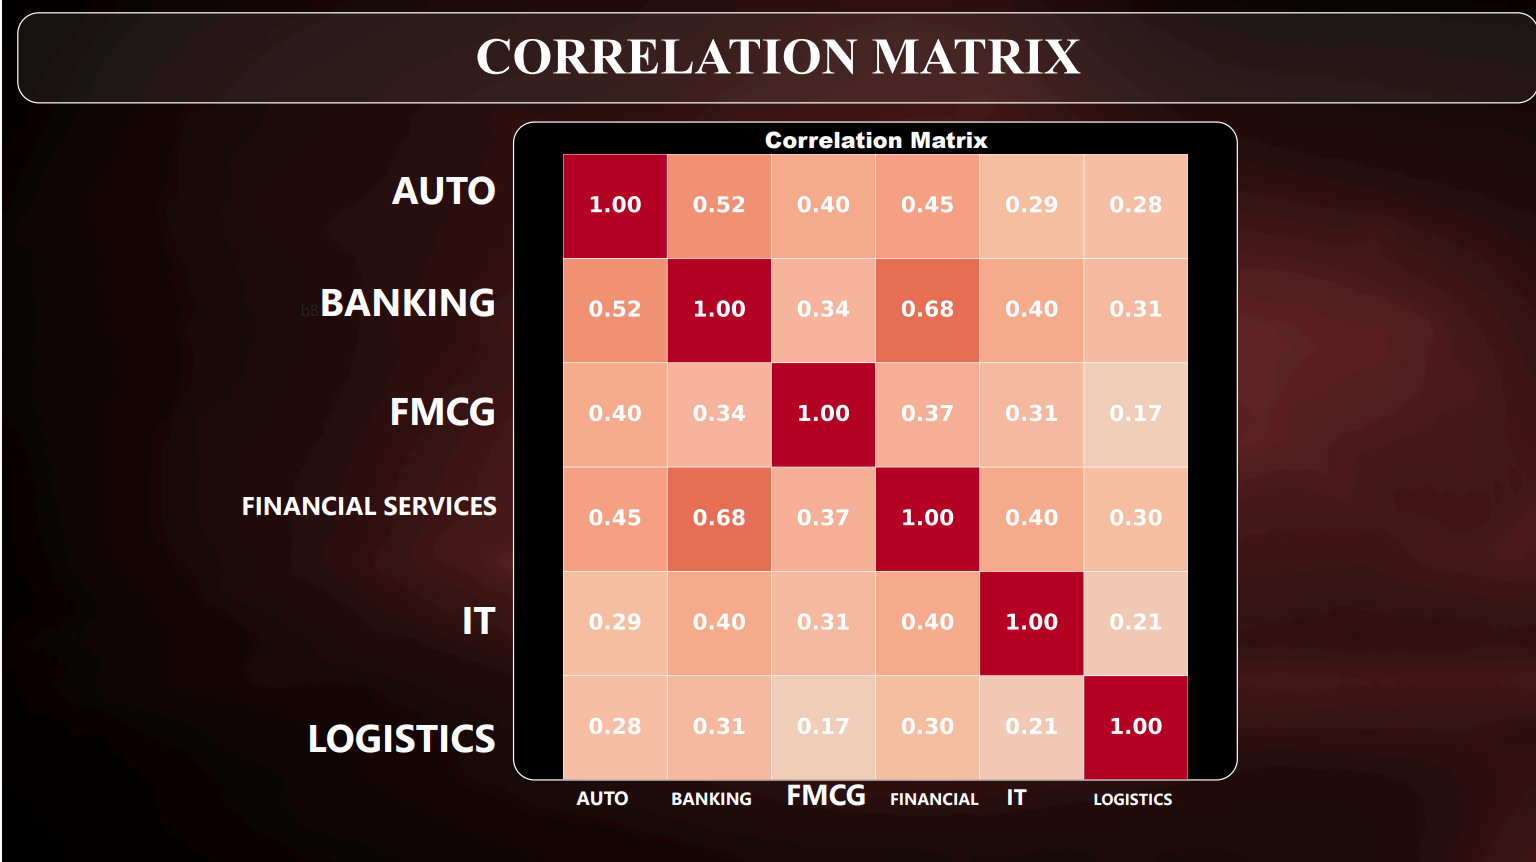

Layout of this report page (visuals, bound fields, positions):
{"tool":"powerbi","page":{"name":"Duplicate of Page 1","canvas":[1280,720],"ordinal":1},"visuals":[{"type":"group","id":"g1","title":"Group 1","box":[425.2,103,604.3,548.8],"z":0,"group":"g2"},{"type":"textbox","box":[165.1,132.3,251.4,65.1],"z":1000,"group":"g2"},{"type":"pythonVisual","title":"          Correlation Matrix","fields":{"Values":["sectors.sector_name","sector_return.date","sector_return.sector_return"]},"box":[425.2,103,604.3,548.8],"z":2000,"group":"g1"},{"type":"textbox","box":[165.1,224.7,251.4,66.6],"z":2000,"group":"g2"},{"type":"group","id":"g2","title":"Group 2","box":[165,103,872.2,599.6],"z":2008},{"type":"textbox","box":[12.1,12.1,1267.4,75.7],"z":2009},{"type":"textbox","box":[165,315.6,251.4,60.6],"z":3000,"group":"g2"},{"type":"textbox","box":[165.2,403.3,251.3,51.9],"z":4000,"group":"g2"},{"type":"textbox","box":[165.1,489.7,251.4,60.6],"z":5000,"group":"g2"},{"type":"textbox","box":[165.1,588.1,251.4,54.5],"z":6000,"group":"g2"},{"type":"textbox","box":[451.3,641.1,586,62.1],"z":7000,"group":"g2"}]}

Visuals, with their boxes in screenshot pixels (x1, y1, x2, y2), scaled from the page's 1280x720 canvas onto the 1536x862 screenshot:
"Group 1" group: <bbox>510, 123, 1235, 780</bbox>
textbox: <bbox>198, 158, 500, 236</bbox>
"          Correlation Matrix" pythonVisual: <bbox>510, 123, 1235, 780</bbox>
textbox: <bbox>198, 269, 500, 349</bbox>
"Group 2" group: <bbox>198, 123, 1245, 841</bbox>
textbox: <bbox>15, 14, 1535, 105</bbox>
textbox: <bbox>198, 378, 500, 450</bbox>
textbox: <bbox>198, 483, 500, 545</bbox>
textbox: <bbox>198, 586, 500, 659</bbox>
textbox: <bbox>198, 704, 500, 769</bbox>
textbox: <bbox>542, 768, 1245, 842</bbox>
